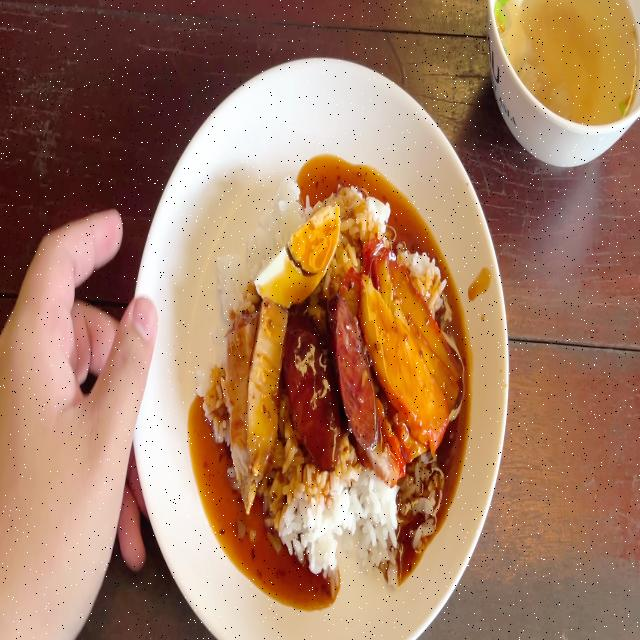boiled_egg: (252, 206, 338, 303)
chainese_sausage: (284, 306, 341, 462), (334, 299, 379, 453)
crispy_pork: (225, 302, 285, 502), (250, 298, 279, 487), (234, 312, 255, 496)
red_pork: (358, 252, 461, 452), (358, 272, 443, 443), (392, 264, 464, 409)
red_pork_and_crispy_pork: (198, 170, 461, 572)
rice: (275, 469, 398, 578), (259, 176, 303, 247), (214, 234, 261, 293)
